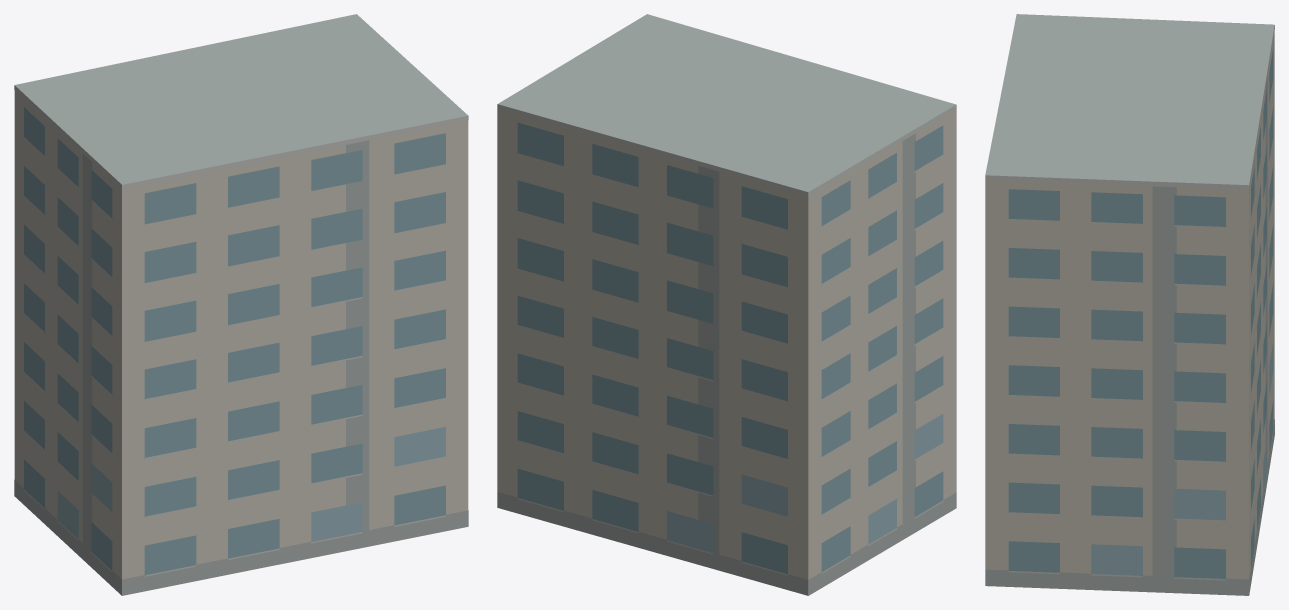
File: survey-upis-32751290.glb
3 renders of one model, left to right at view 1: azimuth 30°, elevation 25°; view 2: azimuth 150°, elevation 25°; view 3: azimuth 270°, elevation 25°, orthographic.
Parts seen in each view (by area): view 1: survey-upis-32751290.tmp; view 2: survey-upis-32751290.tmp; view 3: survey-upis-32751290.tmp.
Part boxes in pixels (box(x1,y1,x2,y2)): survey-upis-32751290.tmp: box(14, 14, 468, 595); survey-upis-32751290.tmp: box(497, 14, 956, 595); survey-upis-32751290.tmp: box(985, 14, 1274, 595).
Bounding box in the file's own units: 18.78 × 21 × 13.43.
